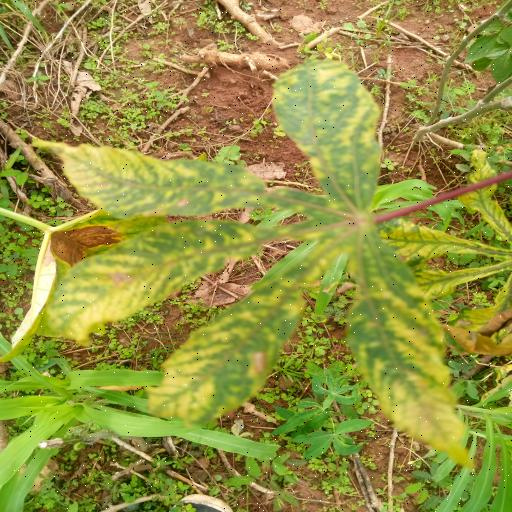Cassava_Mosaic: (46, 57, 512, 465)
